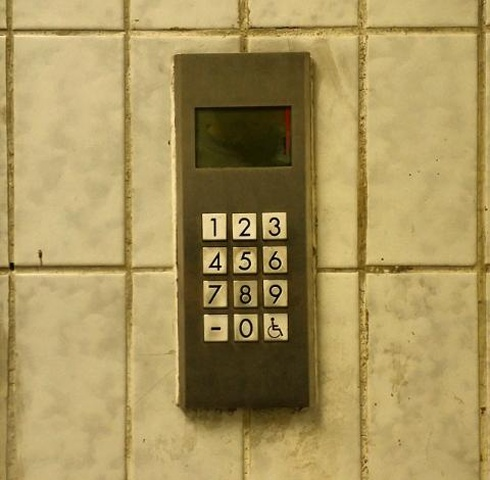-: (202, 313, 229, 342)
0: (233, 312, 260, 342)
1: (200, 212, 228, 240)
2: (231, 212, 257, 241)
3: (261, 212, 287, 240)
4: (201, 245, 229, 275)
5: (232, 246, 258, 275)
6: (261, 245, 289, 274)
7: (202, 279, 229, 308)
8: (232, 279, 259, 308)
9: (262, 278, 289, 307)
CH: (262, 312, 290, 342)
led: (192, 102, 291, 171)
